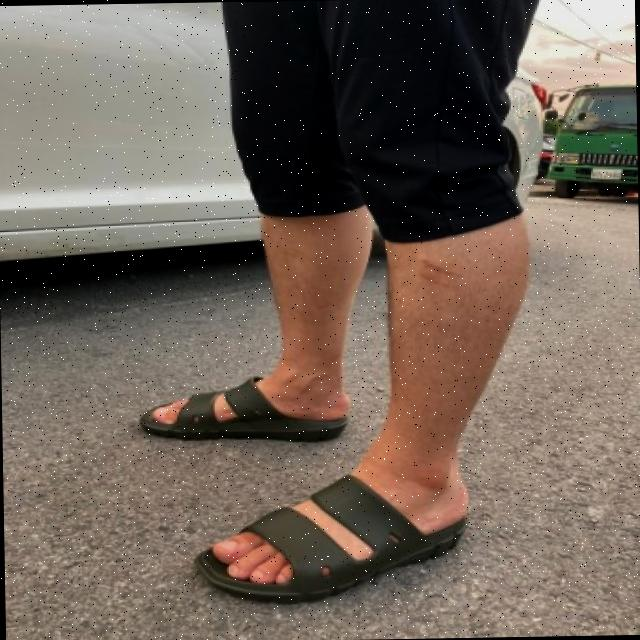no-boots: (150, 470, 519, 620), (129, 368, 358, 458)
